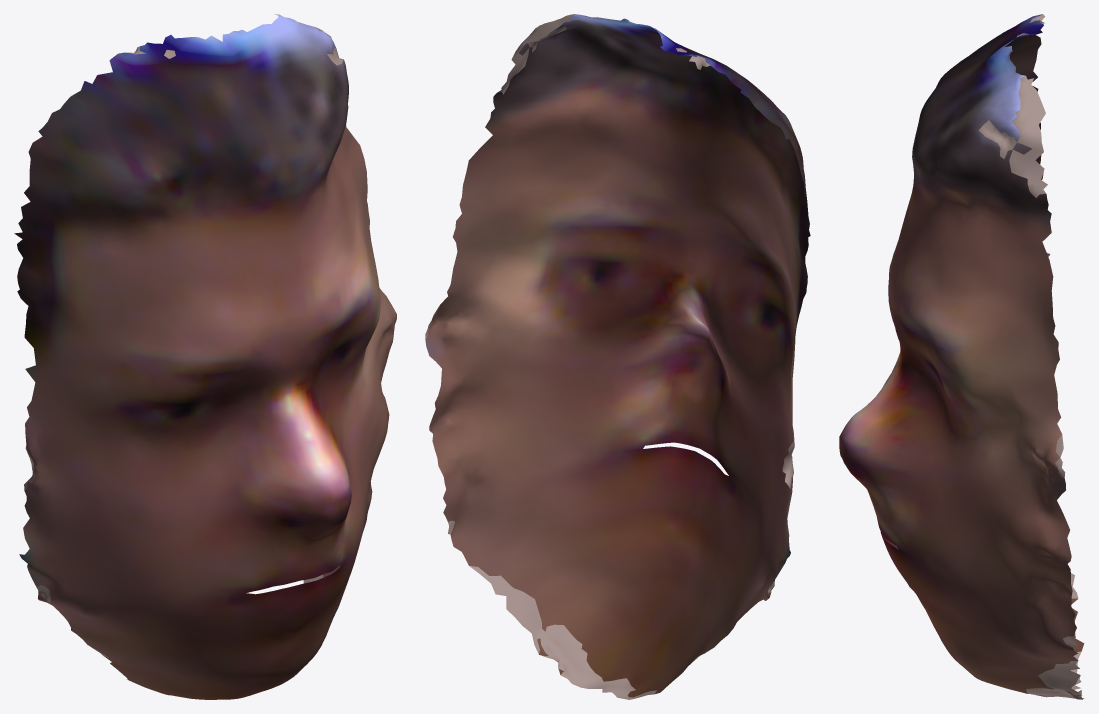
File: texture_face_final_meshlab.obj
3 renders of one model, left to right at view 1: azimuth 30°, elevation 25°; view 2: azimuth 150°, elevation 25°; view 3: azimuth 270°, elevation 25°, orthographic. The views are drawn at different scales.
Bounding box in the file's own units: 24.35 × 40.24 × 13.93.
1 material, 1 textured.
